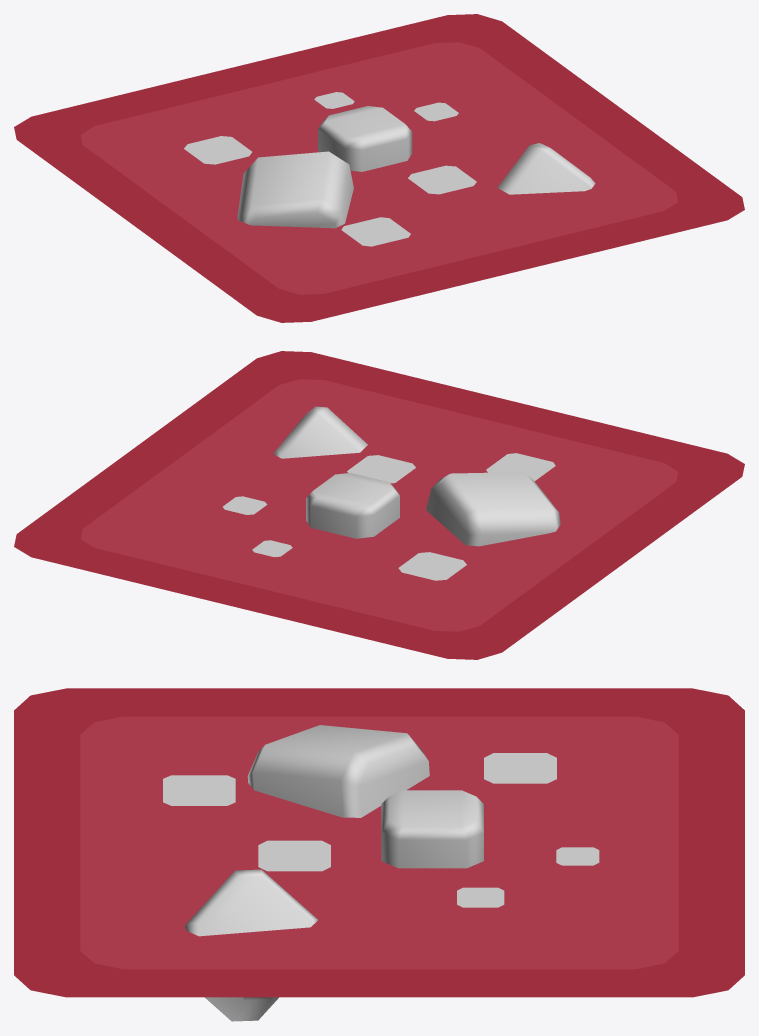
The model's file is BC_cookrecipe_16.fbx.
3 views of the same model, one above another, from view 1: azimuth 30°, elevation 25°; view 2: azimuth 150°, elevation 25°; view 3: azimuth 270°, elevation 25° (orthographic). The views are drawn at different scales.
Visible parts, largest first — view 1: base, cube2, cube1, cube3, boko4, boko2, boko1, boko8; view 2: base, cube2, cube1, cube3, boko1, boko2, boko4, boko8; view 3: base, cube2, cube1, cube3, boko2, boko4, boko1, boko8, boko7.
Boxes of the visible parts, bbox=[...] form: base: bbox=[14, 14, 744, 322]; cube2: bbox=[237, 151, 353, 228]; cube1: bbox=[318, 106, 412, 171]; cube3: bbox=[497, 143, 595, 194]; boko4: bbox=[341, 217, 410, 246]; boko2: bbox=[408, 165, 476, 194]; boko1: bbox=[184, 136, 251, 164]; boko8: bbox=[414, 102, 458, 121]; base: bbox=[14, 351, 744, 659]; cube2: bbox=[426, 472, 560, 546]; cube1: bbox=[306, 472, 399, 538]; cube3: bbox=[273, 406, 367, 458]; boko1: bbox=[398, 552, 466, 580]; boko2: bbox=[347, 455, 415, 483]; boko4: bbox=[486, 453, 555, 481]; boko8: bbox=[223, 496, 267, 514]; base: bbox=[14, 688, 744, 997]; cube2: bbox=[247, 725, 429, 817]; cube1: bbox=[381, 790, 483, 868]; cube3: bbox=[185, 869, 317, 1021]; boko2: bbox=[258, 840, 330, 871]; boko4: bbox=[163, 775, 235, 805]; boko1: bbox=[484, 753, 556, 783]; boko8: bbox=[457, 887, 504, 907]; boko7: bbox=[556, 847, 599, 865].
Size of the model in its own units: 3.5 by 0.8223 by 3.5.
